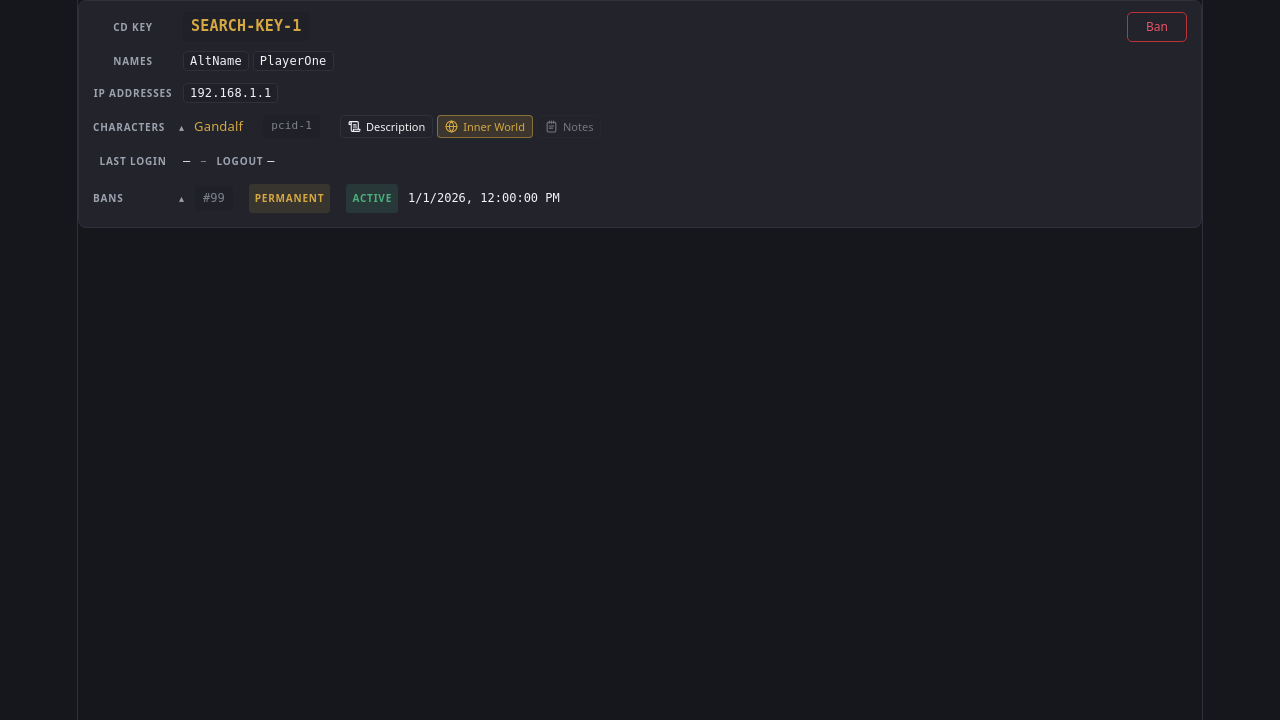
Test case: PlayerSearchItem › closes the ban detail modal when Close is clicked
Click the button with aria-label "view ban #99 details" at (214, 199), box [188, 180, 1193, 217]
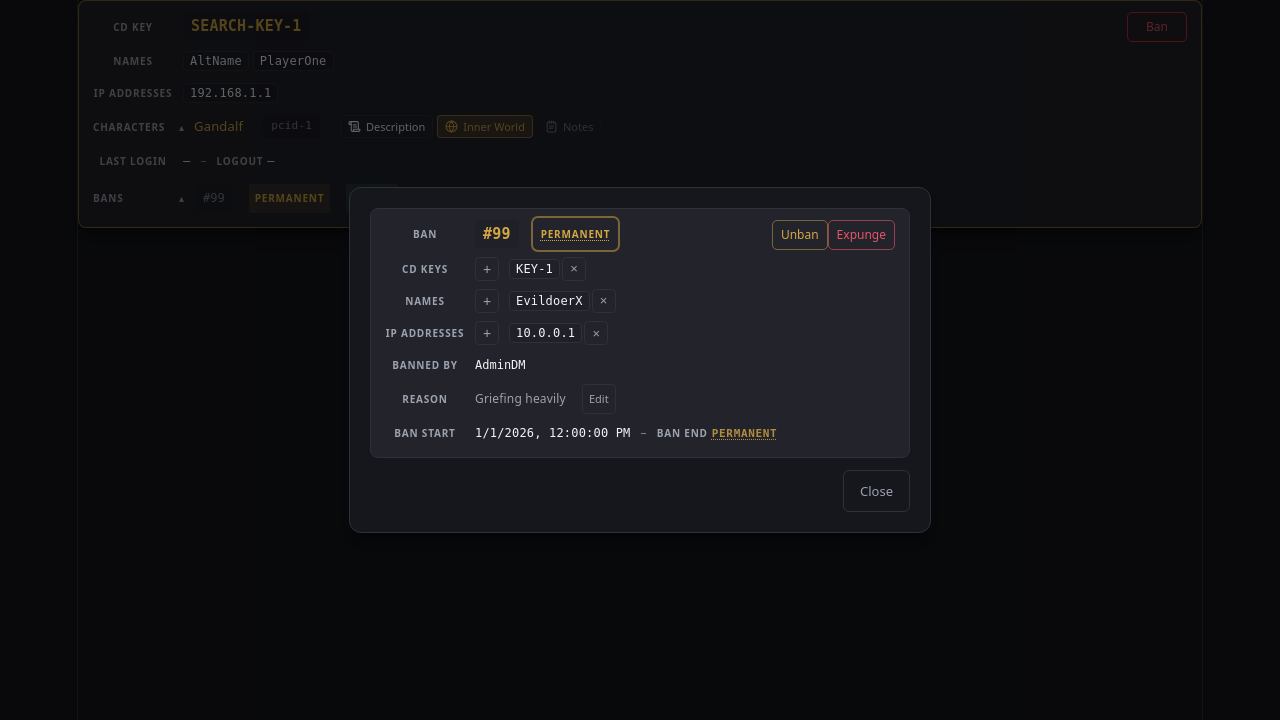
Expected: the dialog is shown, [349, 187, 931, 533]
Click the button "Close" at (876, 491), box [843, 470, 910, 512]
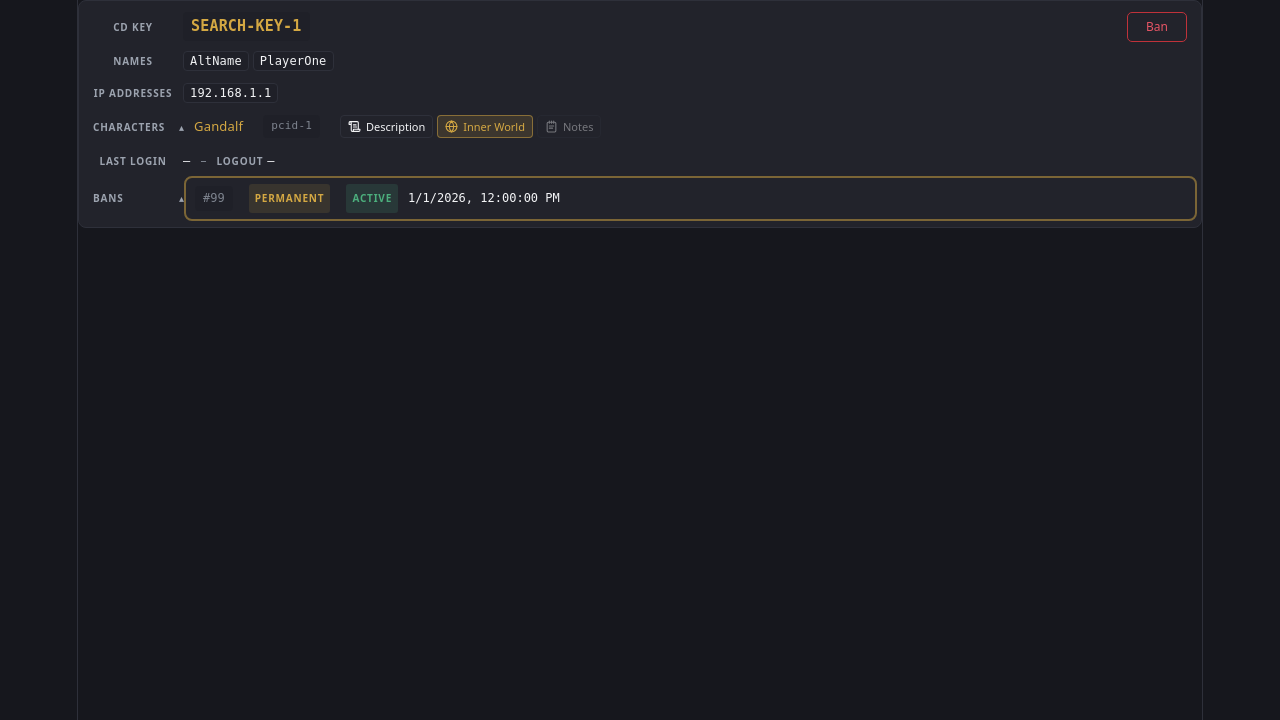
Expected: the dialog is gone
